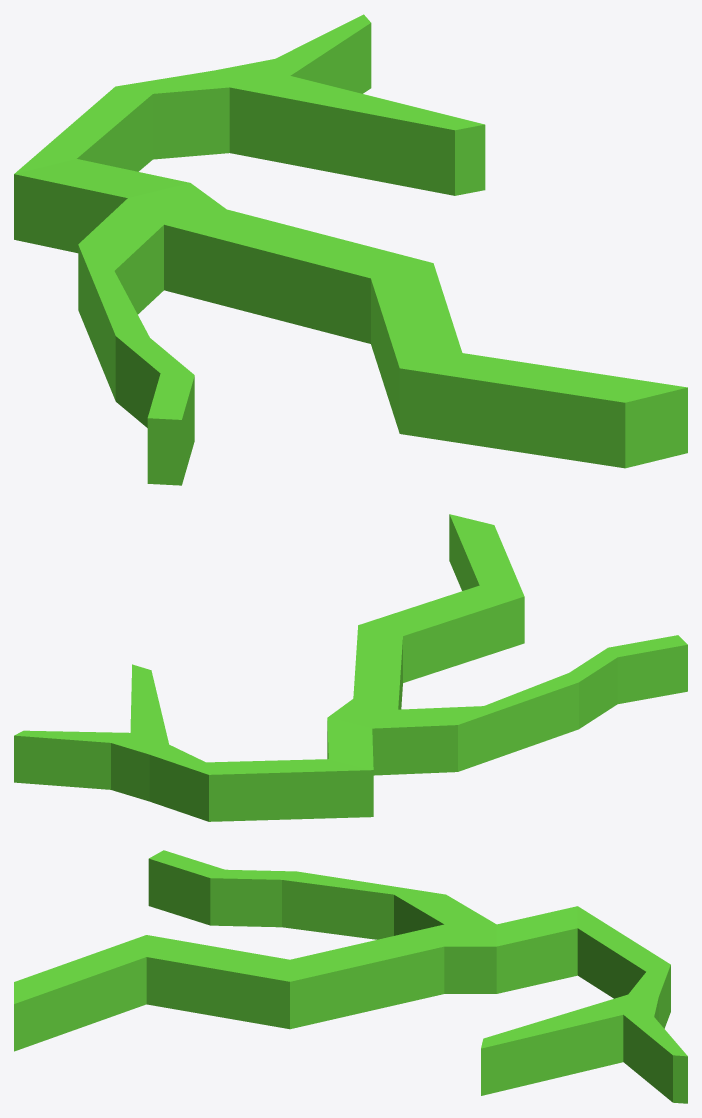
Rendered from groundvine1.fbx.
3 renders of one model, top to bottom at view 1: azimuth 30°, elevation 25°; view 2: azimuth 150°, elevation 25°; view 3: azimuth 270°, elevation 25°, orthographic. The views are drawn at different scales.
Parts seen in each view (by area): view 1: Cube.007; view 2: Cube.007; view 3: Cube.007.
Part boxes in pixels (x1,y1,x2,y2): Cube.007: [14, 14, 687, 485]; Cube.007: [14, 514, 687, 821]; Cube.007: [14, 850, 687, 1103].
Size of the model in its own units: 505 by 57.07 by 704.
